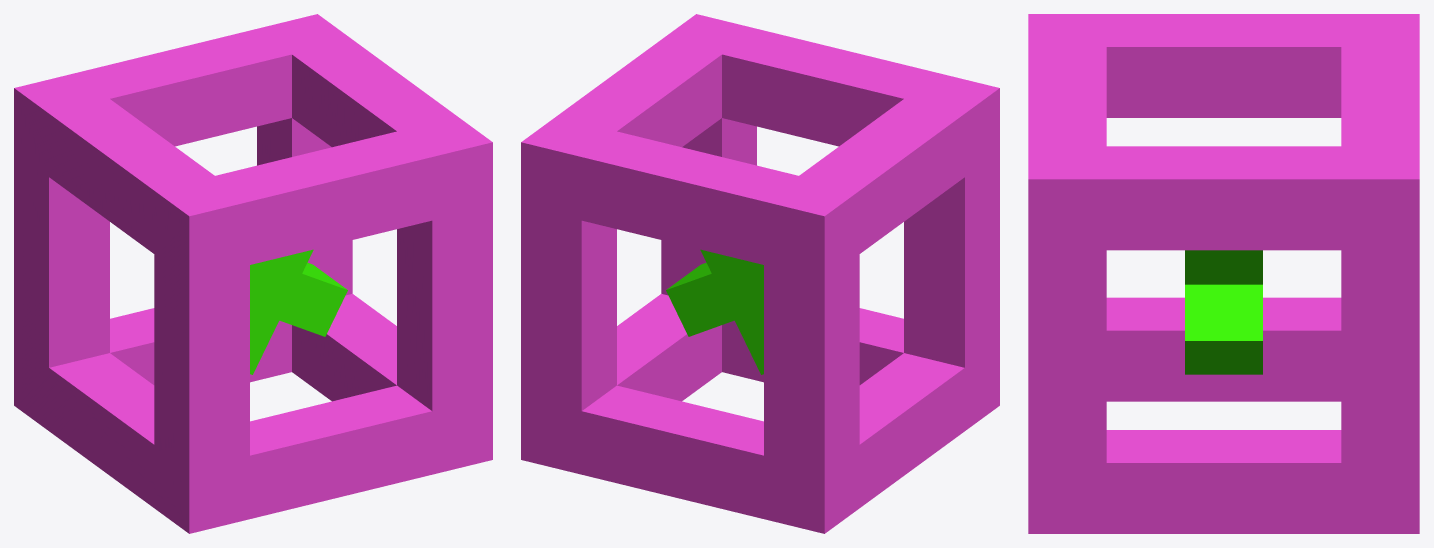
File: health.obj
3 renders of one model, left to right at view 1: azimuth 30°, elevation 25°; view 2: azimuth 150°, elevation 25°; view 3: azimuth 270°, elevation 25°, orthographic. The views are drawn at different scales.
Visible parts, largest first — view 1: mergedBlocks; view 2: mergedBlocks; view 3: mergedBlocks.
Part boxes in pixels (left/top/right/bottom): mergedBlocks: left=14, top=14, right=492, bottom=533; mergedBlocks: left=521, top=14, right=999, bottom=533; mergedBlocks: left=1028, top=14, right=1419, bottom=533.
Bounding box in the file's own units: 1 × 1 × 1.
